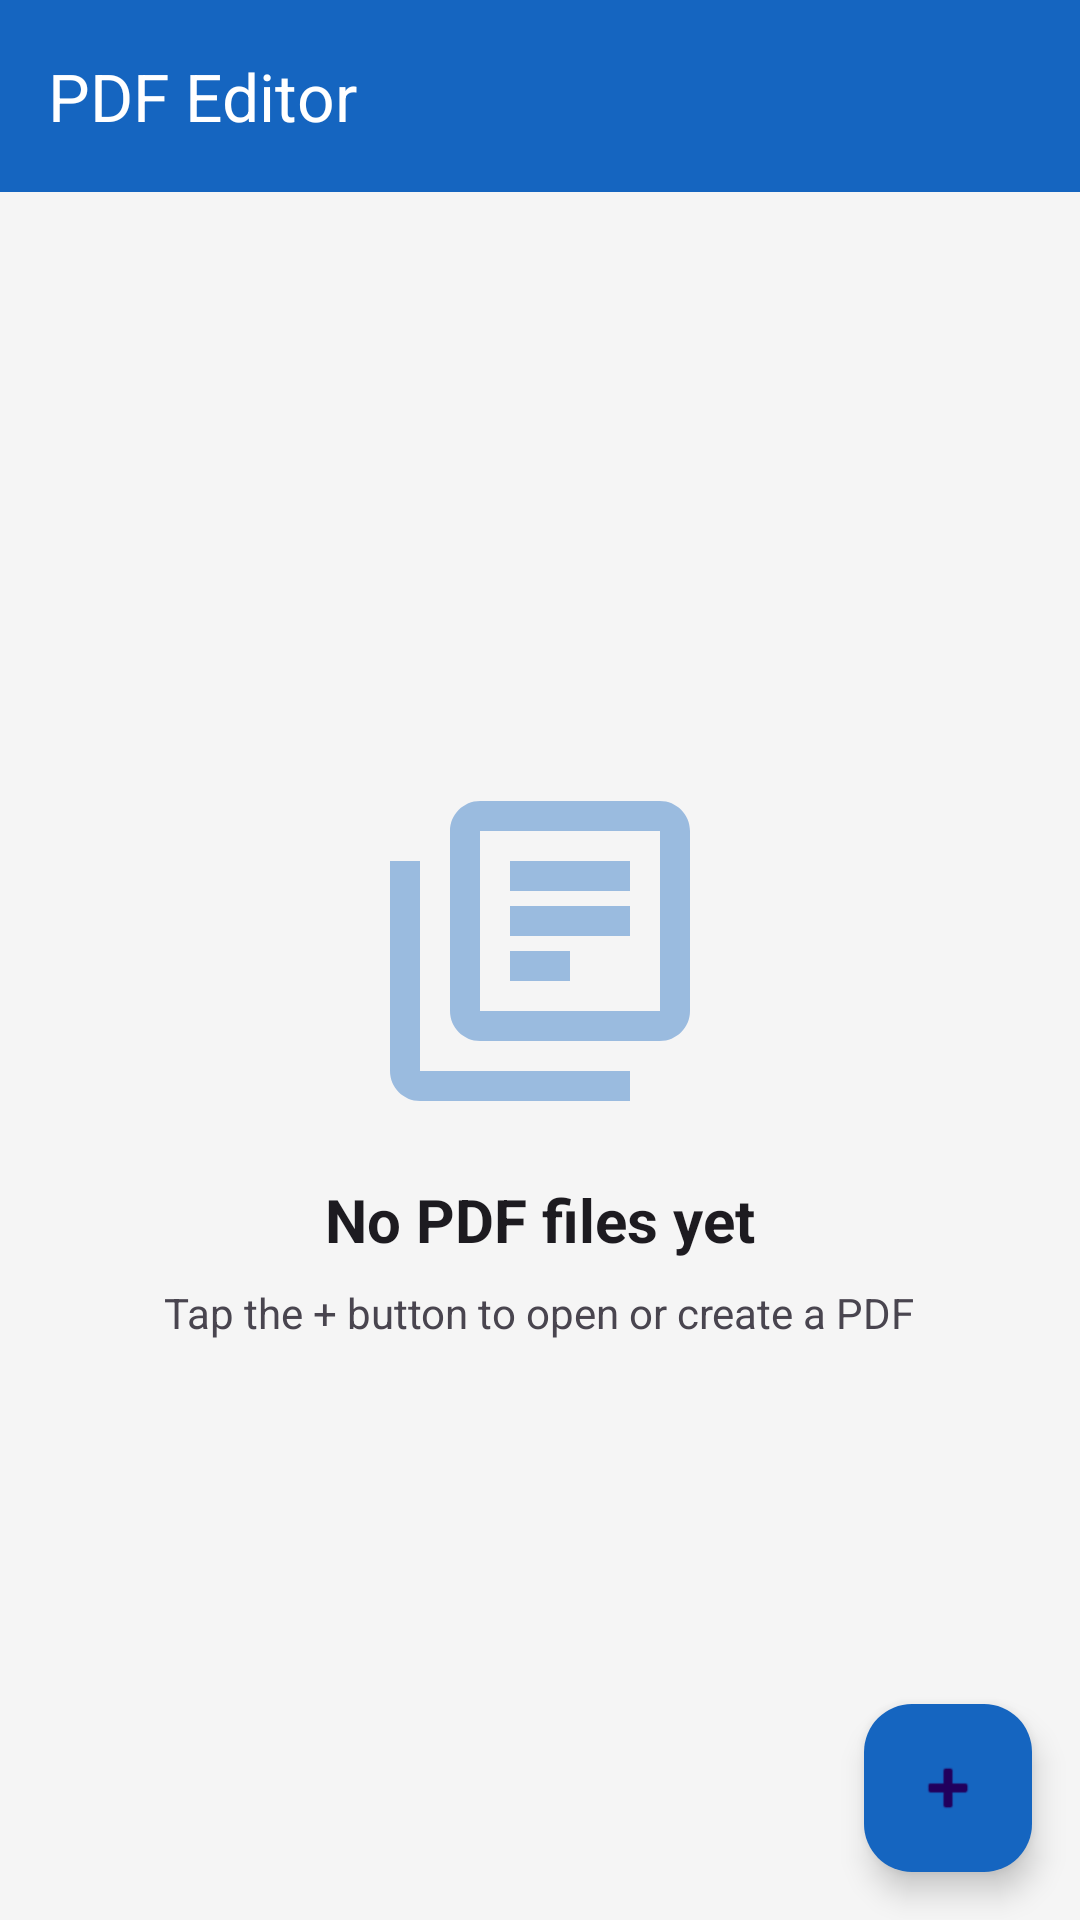

Where to tap for icons on this 1080x1920 app screen, as (x=x, y=y):
Add PDF: (x=948, y=1788)
